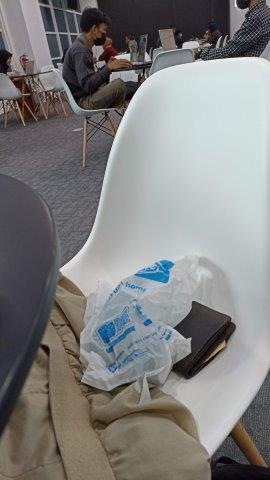plastik: (81, 253, 201, 389)
